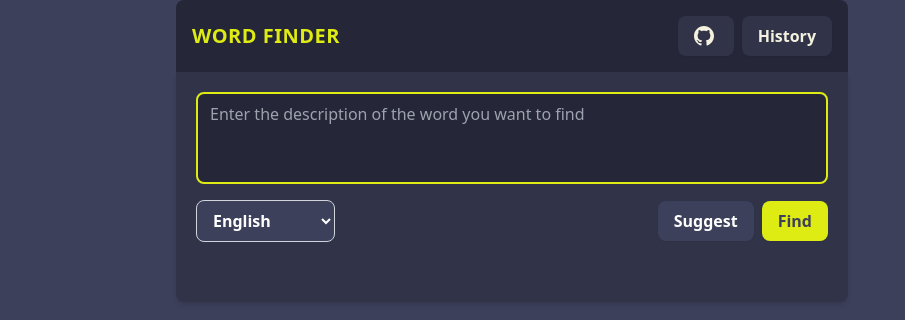
Test: Responsive History Panel › should prevent flickering when loading new history items
Click the history button
Click the button "History".
click(787, 36)  # box [742, 16, 832, 56]
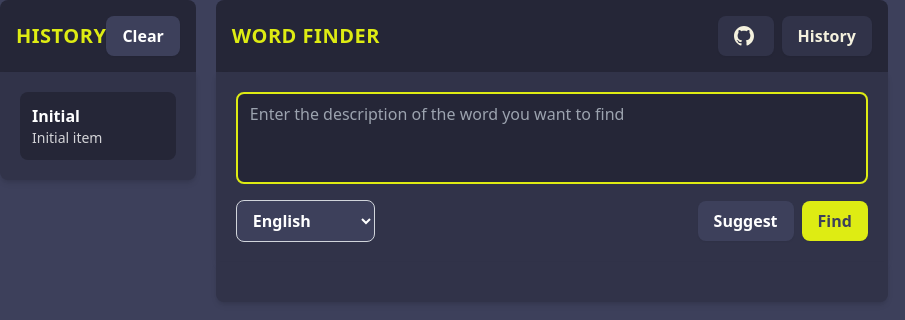
Now the text "Initial" is shown, box [32, 105, 80, 127]
